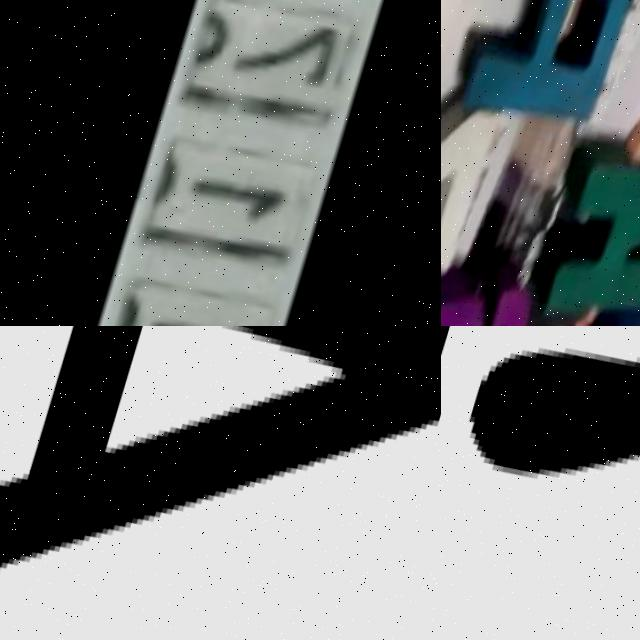1: (181, 159, 304, 256), (138, 295, 264, 326)
7: (441, 326, 640, 640), (220, 0, 360, 125)
A: (0, 326, 441, 640)
K: (529, 141, 640, 326)
P: (452, 0, 640, 141)
S: (441, 249, 544, 326)
Z: (441, 76, 505, 296)
